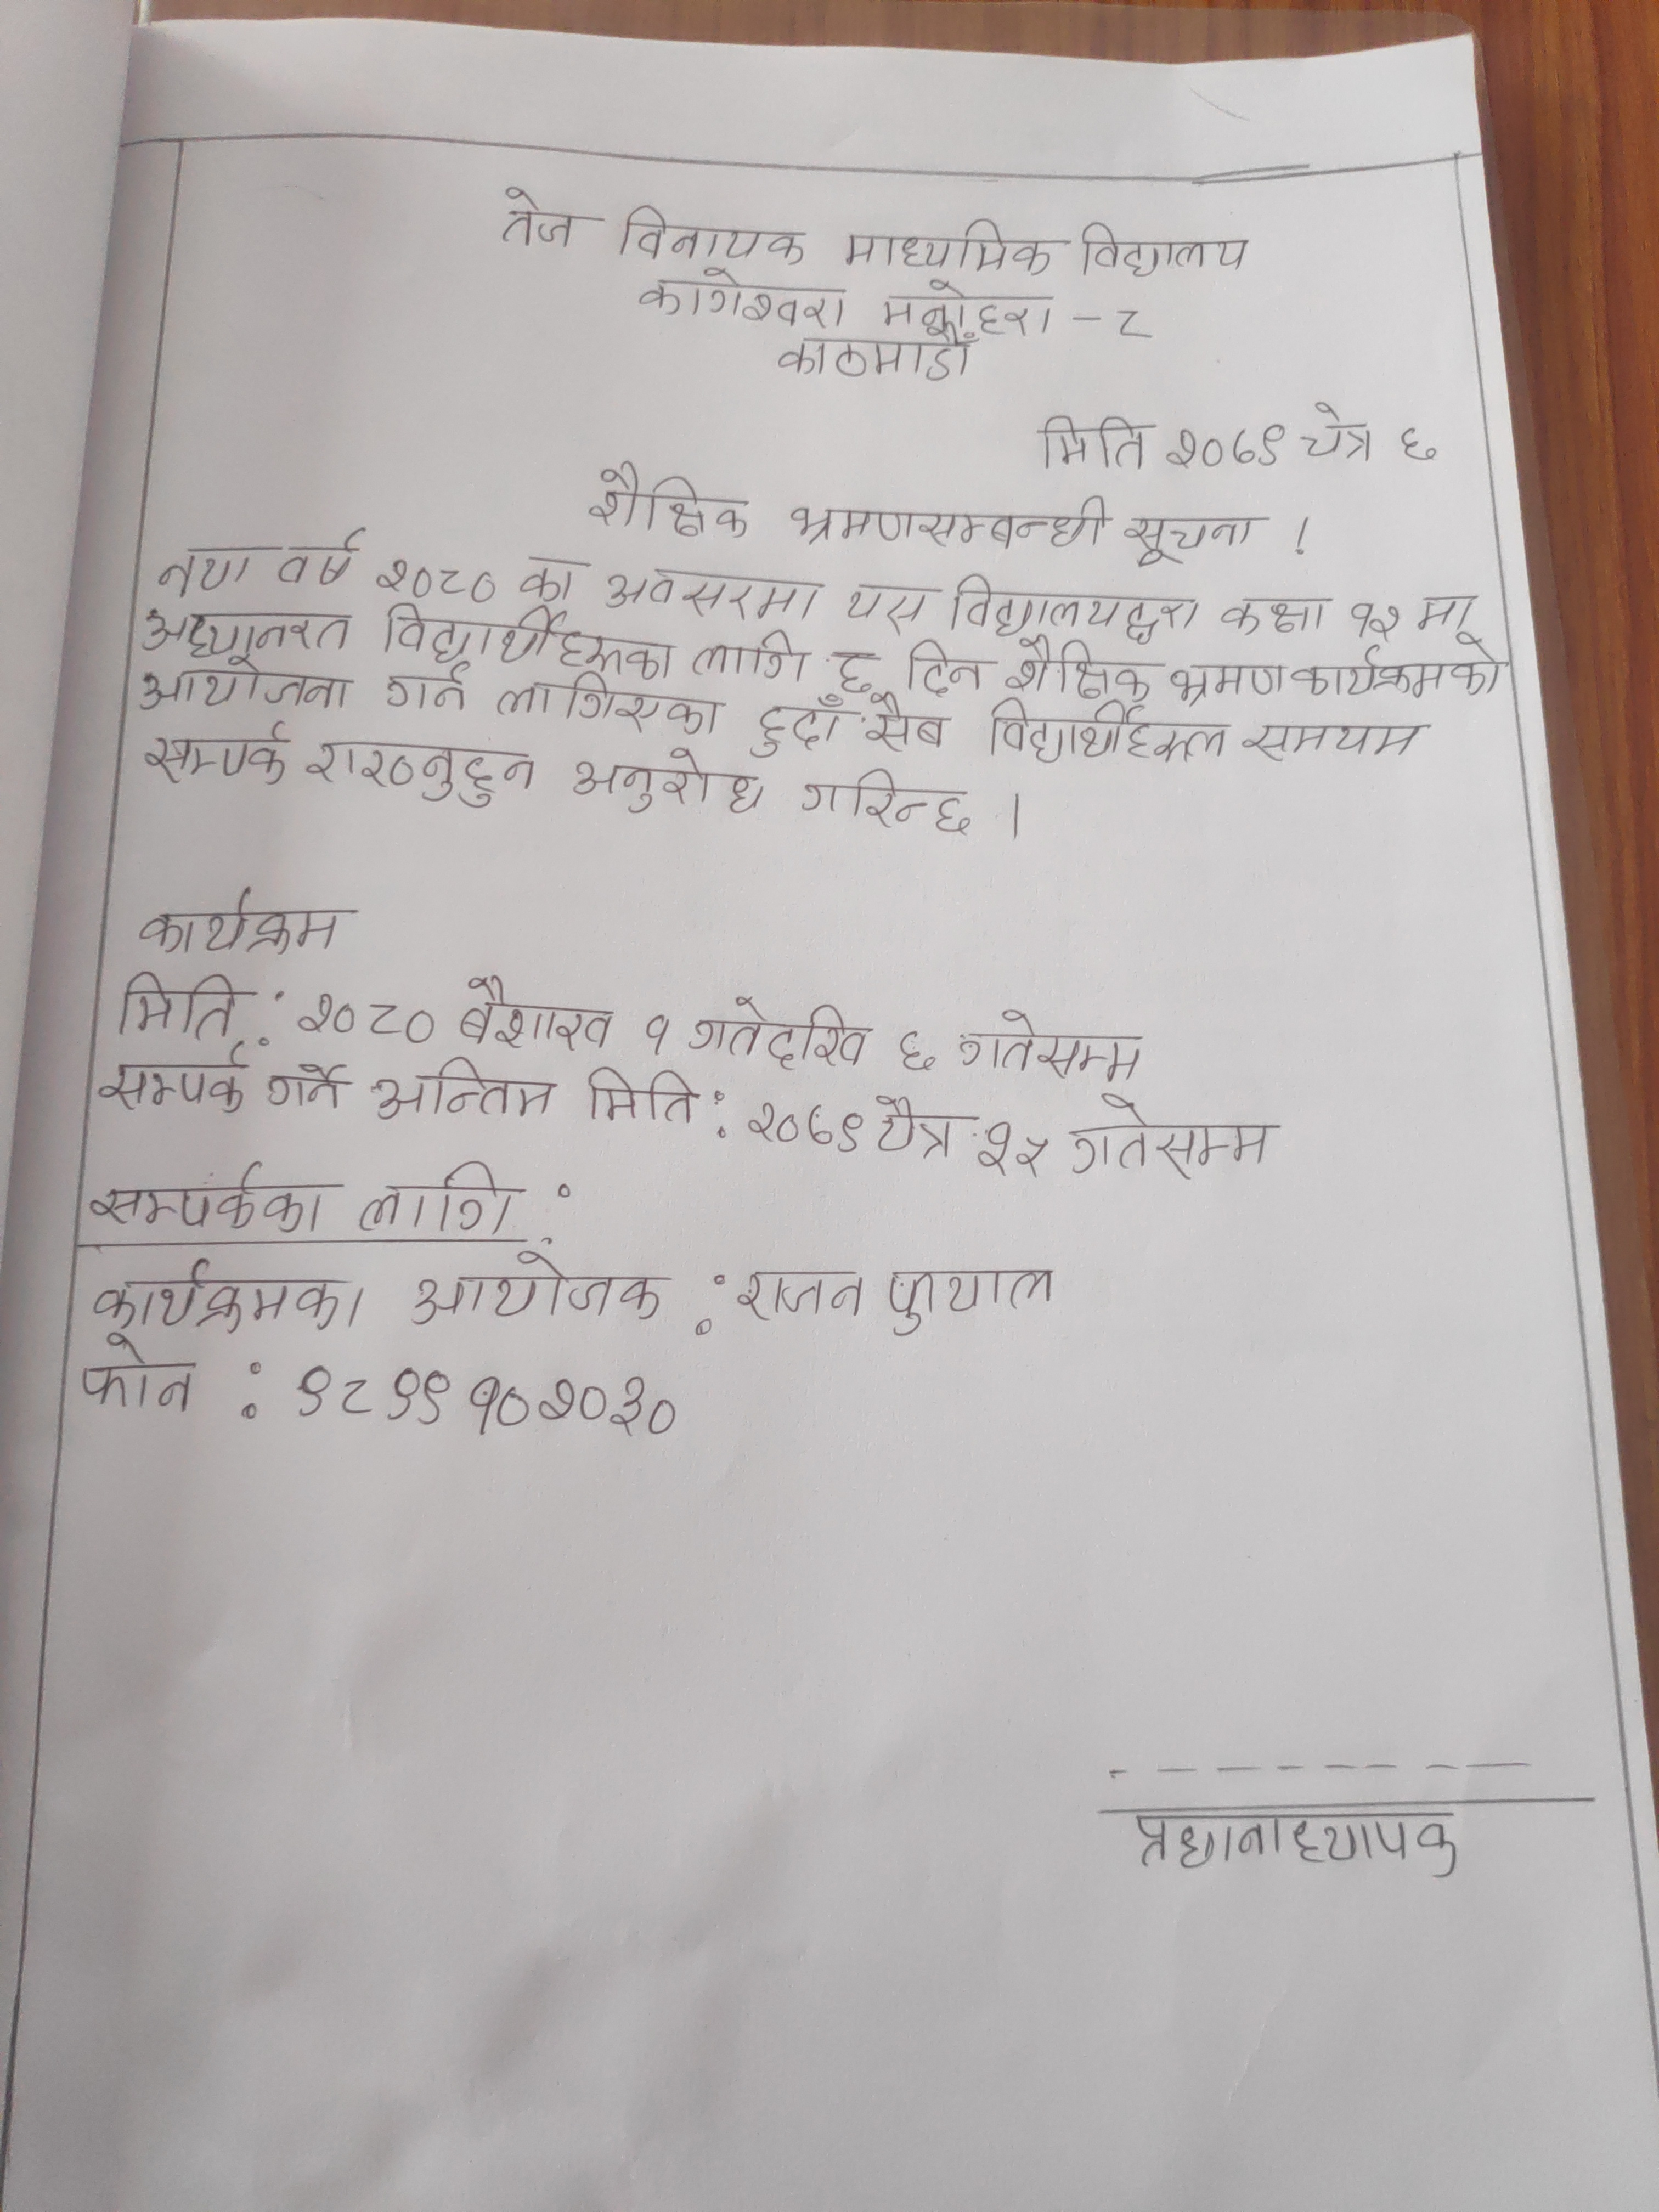text: (291, 1364, 685, 1439), (1122, 1810, 1464, 1879), (380, 603, 676, 681), (87, 1256, 369, 1336), (408, 1247, 666, 1327), (786, 491, 1108, 554), (84, 1160, 338, 1237), (1066, 1094, 1286, 1181), (300, 738, 540, 808), (953, 573, 1202, 639), (136, 883, 349, 958), (955, 1010, 1152, 1089), (568, 744, 769, 819), (985, 702, 1230, 763), (1291, 634, 1507, 702), (495, 672, 725, 735), (685, 993, 877, 1068), (586, 458, 756, 540), (796, 766, 985, 838), (603, 563, 828, 622), (840, 218, 1063, 277), (457, 972, 615, 1054), (638, 266, 850, 327), (139, 603, 357, 662), (136, 657, 354, 716), (354, 1160, 526, 1233), (94, 1045, 253, 1123), (371, 1057, 556, 1123), (885, 1264, 1056, 1336), (620, 202, 809, 265), (774, 327, 981, 381), (80, 1334, 206, 1420), (139, 718, 293, 786), (1075, 219, 1255, 277), (880, 277, 1058, 334), (1002, 637, 1157, 702), (115, 972, 246, 1040), (586, 1057, 704, 1130), (295, 988, 436, 1049), (1119, 509, 1263, 568), (1239, 721, 1434, 761), (688, 629, 816, 688), (744, 1097, 866, 1158), (735, 1264, 868, 1320), (1162, 421, 1293, 475), (864, 688, 962, 759), (375, 552, 502, 606), (1032, 413, 1150, 470), (868, 1089, 960, 1162), (748, 693, 849, 759), (1215, 590, 1338, 639), (1297, 397, 1382, 465), (275, 524, 364, 589), (1169, 660, 1290, 707), (260, 1061, 359, 1116), (376, 662, 477, 716), (157, 543, 258, 596), (497, 186, 579, 251), (906, 634, 986, 698), (843, 577, 934, 631), (978, 1122, 1056, 1176), (514, 550, 582, 603), (1408, 589, 1485, 632), (890, 1024, 945, 1078), (1345, 596, 1401, 643), (833, 643, 878, 695), (1392, 427, 1445, 465), (641, 1012, 680, 1061)
